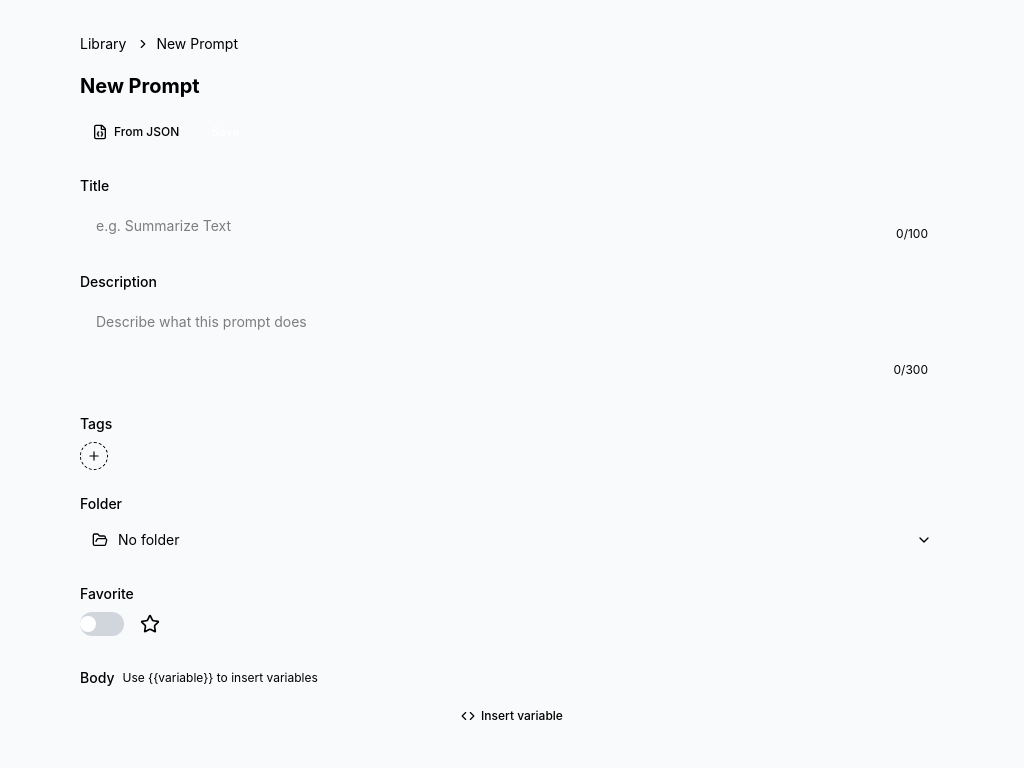
PromptEditor › quick-adds existing tags from suggestions
This screenshot has width=1024, height=768.
Click the button named "Add tag" at (94, 456), box [80, 442, 108, 470]
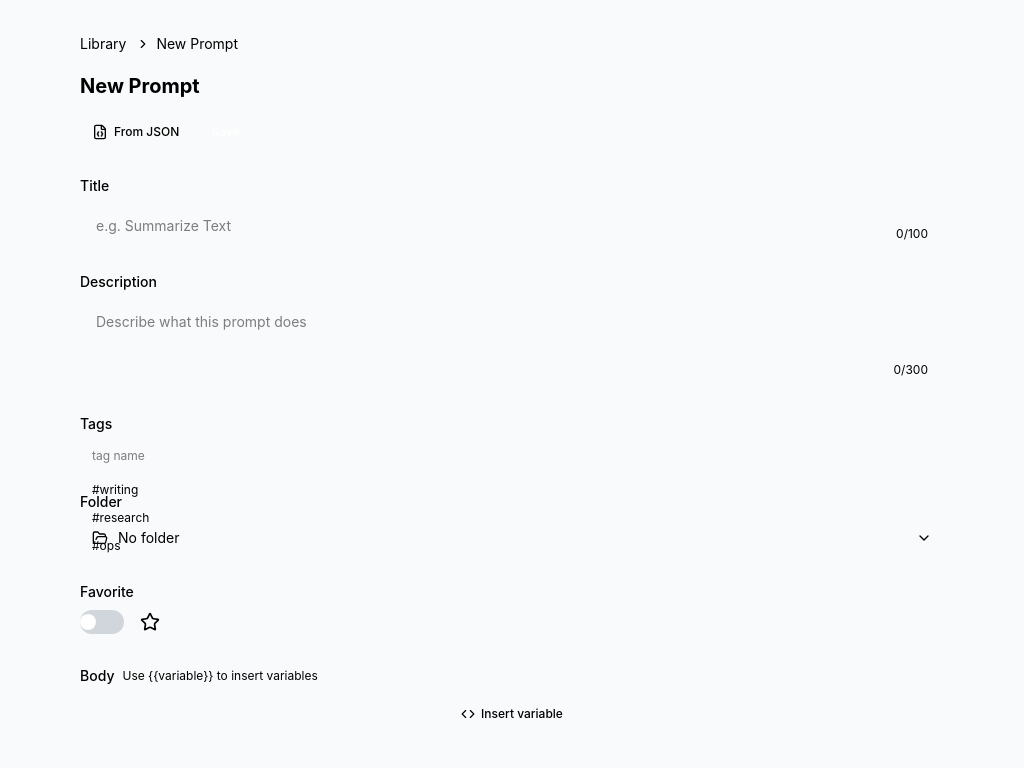
Expected: the option "#writing" is shown, [84, 476, 252, 504]
Type "res" into the dropdown named "Add tag" at (168, 456), box [80, 444, 256, 468]
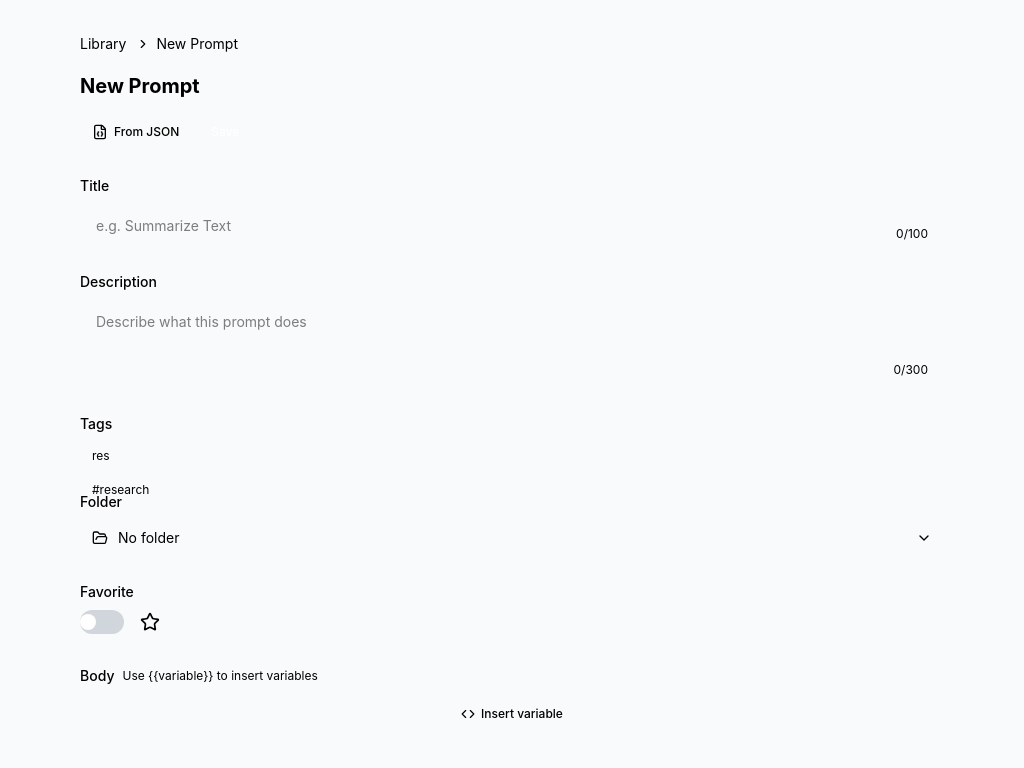
Expected: the option "#writing" is gone
Click the option "#research" at (168, 490), box [84, 476, 252, 504]
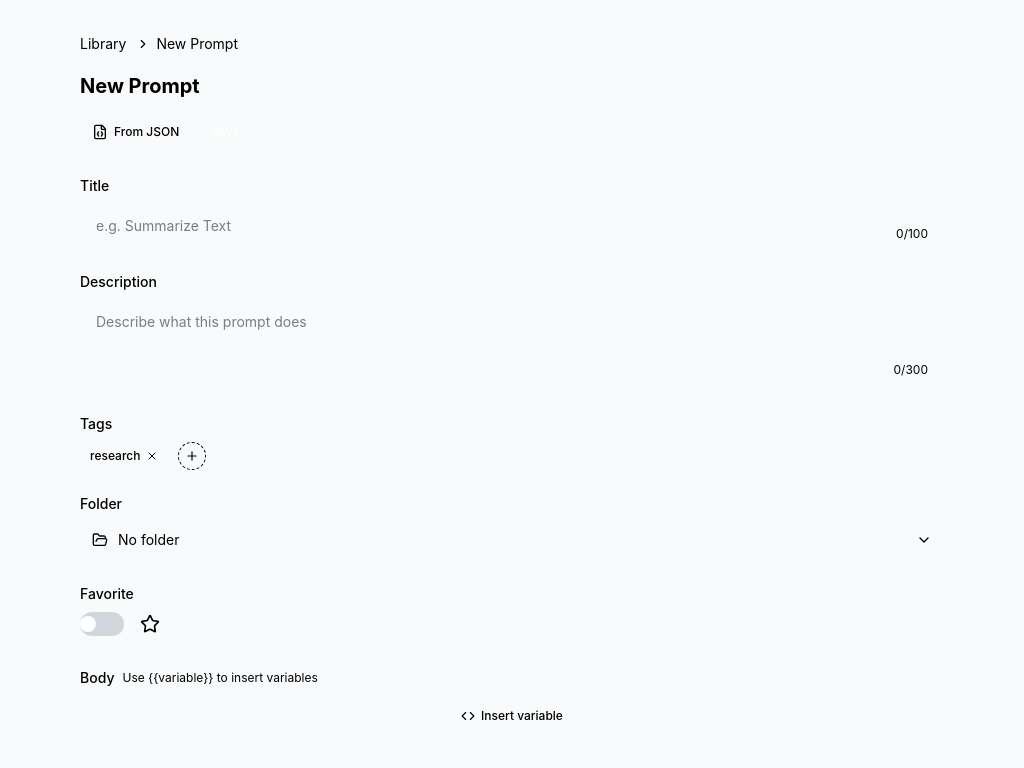
Expected: the button named "Remove research tag" is shown, [144, 448, 160, 464]
